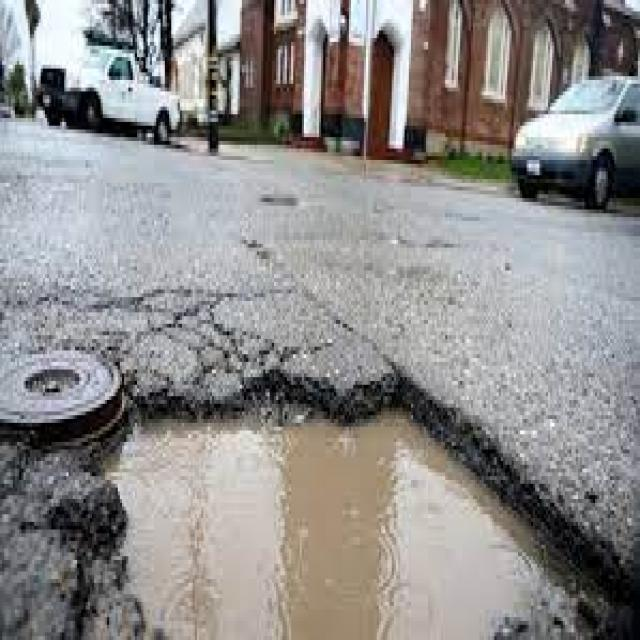Pothole: (2, 351, 640, 640)
